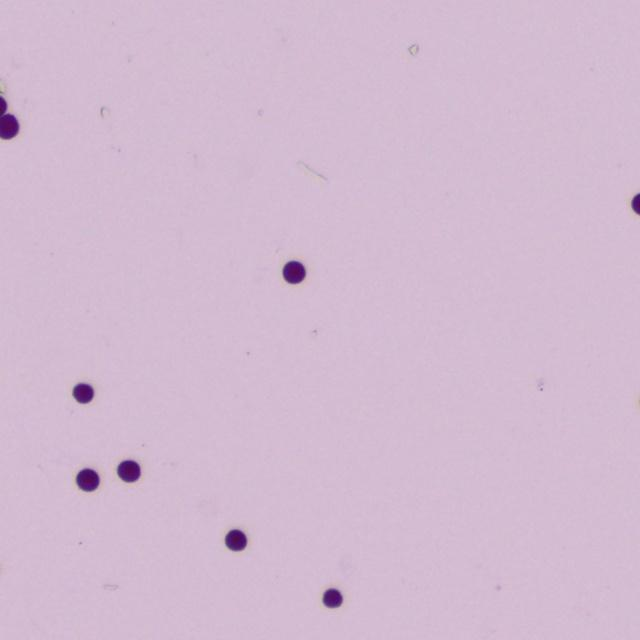viable: (76, 468, 99, 491), (283, 261, 305, 283), (117, 460, 140, 481), (225, 529, 246, 551), (0, 115, 18, 139), (73, 383, 94, 403), (323, 588, 342, 607), (631, 193, 639, 214), (0, 95, 6, 115)
